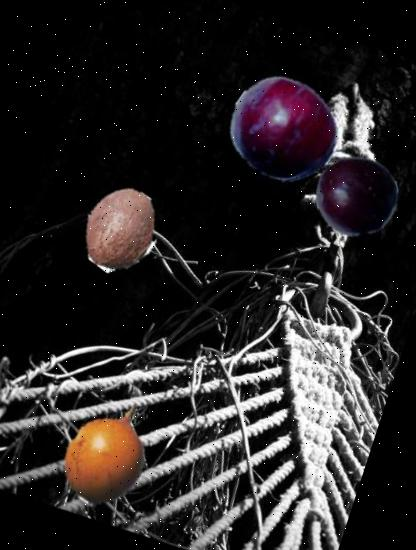Cocos: (66, 176, 176, 286)
Granadilla: (40, 382, 180, 522)
Plum: (214, 60, 354, 200), (304, 143, 409, 248)
